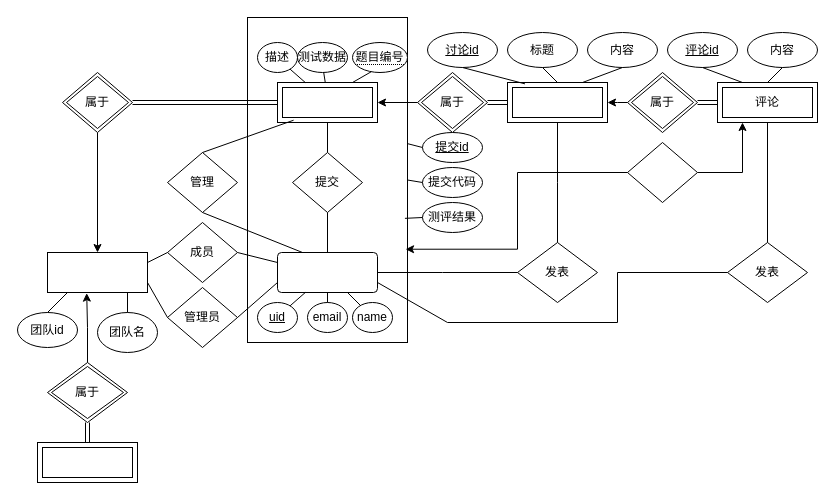
Some shapes in this 835 by 500 pixel diagram are drawn without their labels. Here are the shapes that lost their labels. From the top down, the box of each, then its label:
(276, 82, 378, 122): 题目
(506, 82, 608, 122): 讨论帖子
(626, 142, 698, 202): 引用
(46, 252, 148, 292): 团队
(276, 252, 378, 292): 用户
(36, 442, 138, 482): 比赛
